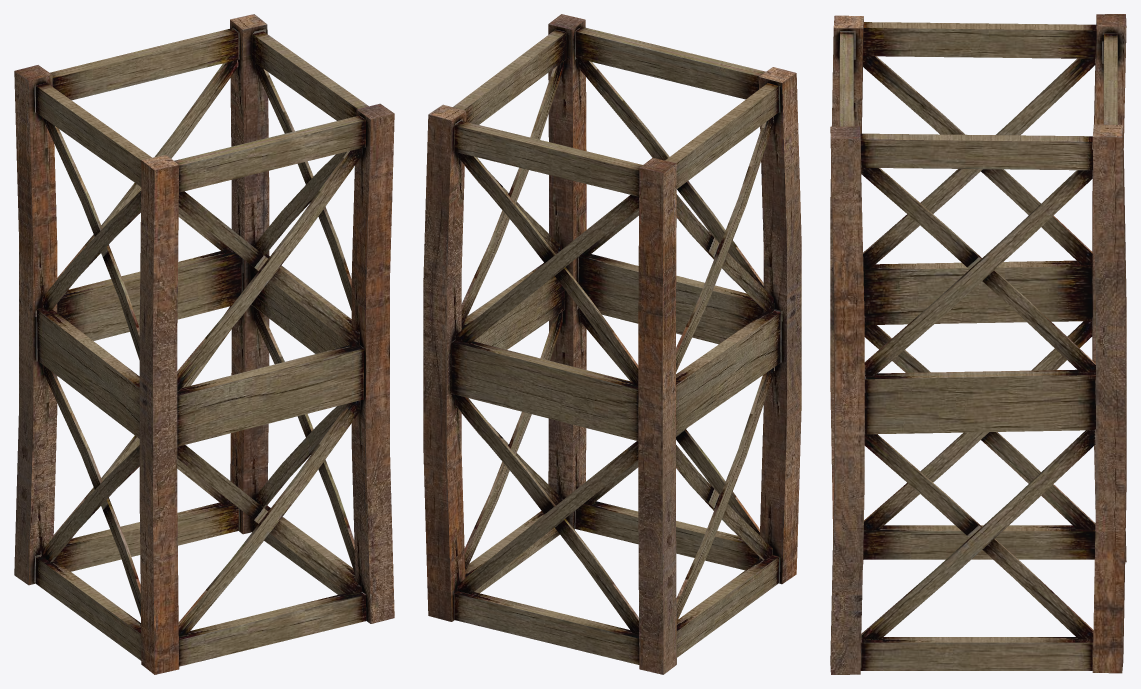
File: scaffold.glb
The picture shows the model from 3 angles, left to right: view 1: azimuth 30°, elevation 25°; view 2: azimuth 150°, elevation 25°; view 3: azimuth 270°, elevation 25°; orthographic projection. The views are drawn at different scales.
Visible parts, largest first — view 1: _bake; view 2: _bake; view 3: _bake.
Boxes of the visible parts, x1=… form: _bake: x1=14, y1=14, x2=394, y2=674; _bake: x1=423, y1=14, x2=801, y2=674; _bake: x1=830, y1=14, x2=1126, y2=674.
Size of the model in its own units: 0.502 by 1 by 0.5012.
1 material, 1 textured.
